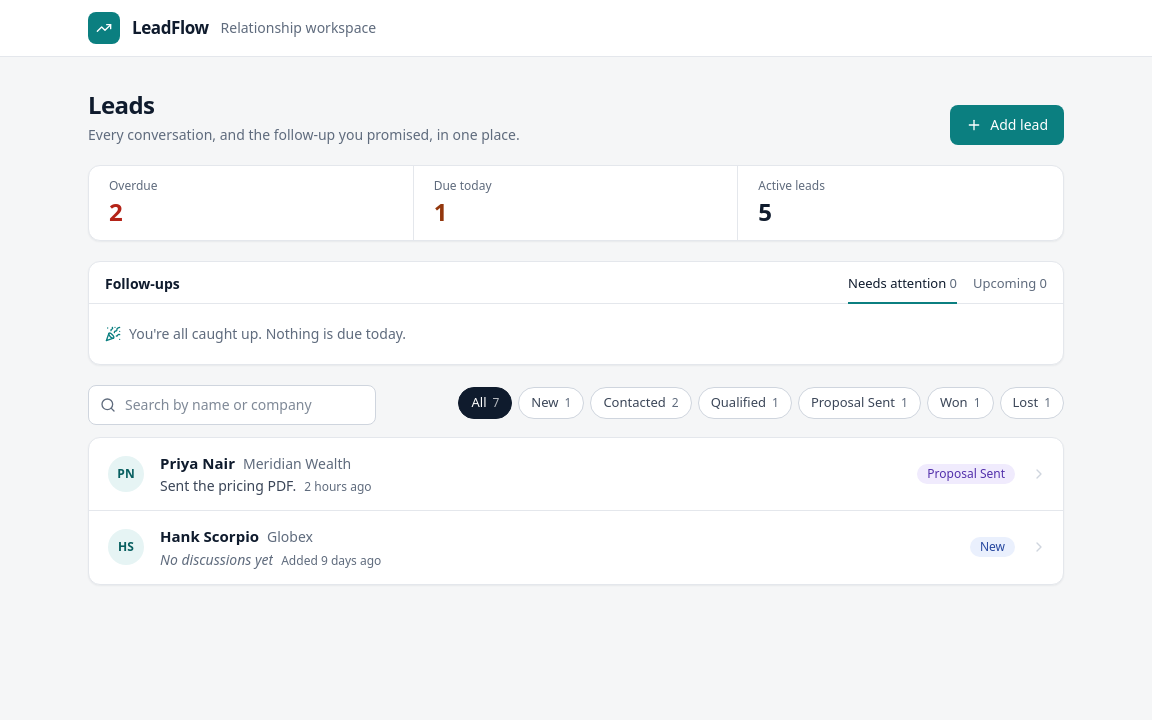
Test case: lead list › filters by status and marks the active filter
Check: the text "Priya Nair" is shown, box [160,452,235,474]
Click the button "Proposal Sent 1": (859, 402) [798,386,921,418]
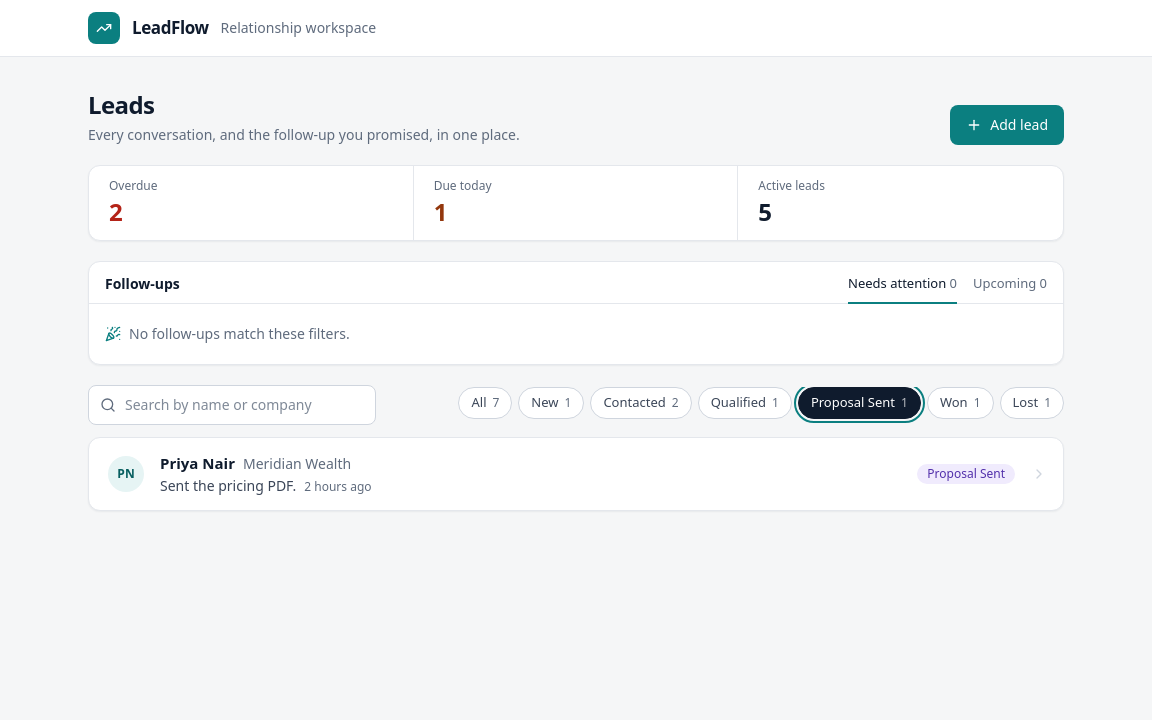
Check: the text "Priya Nair" is shown, box [160,452,235,474]
Check: the button "Hank Scorpio" is gone
